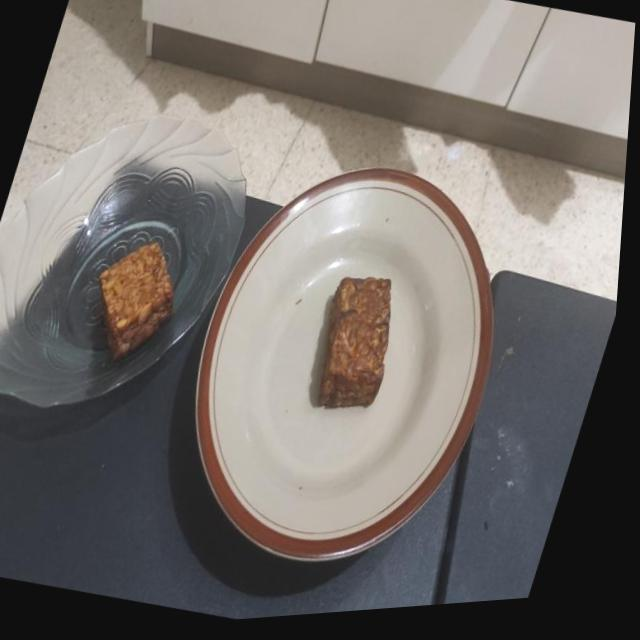tempe_goreng: (318, 276, 390, 408), (100, 244, 173, 358)
